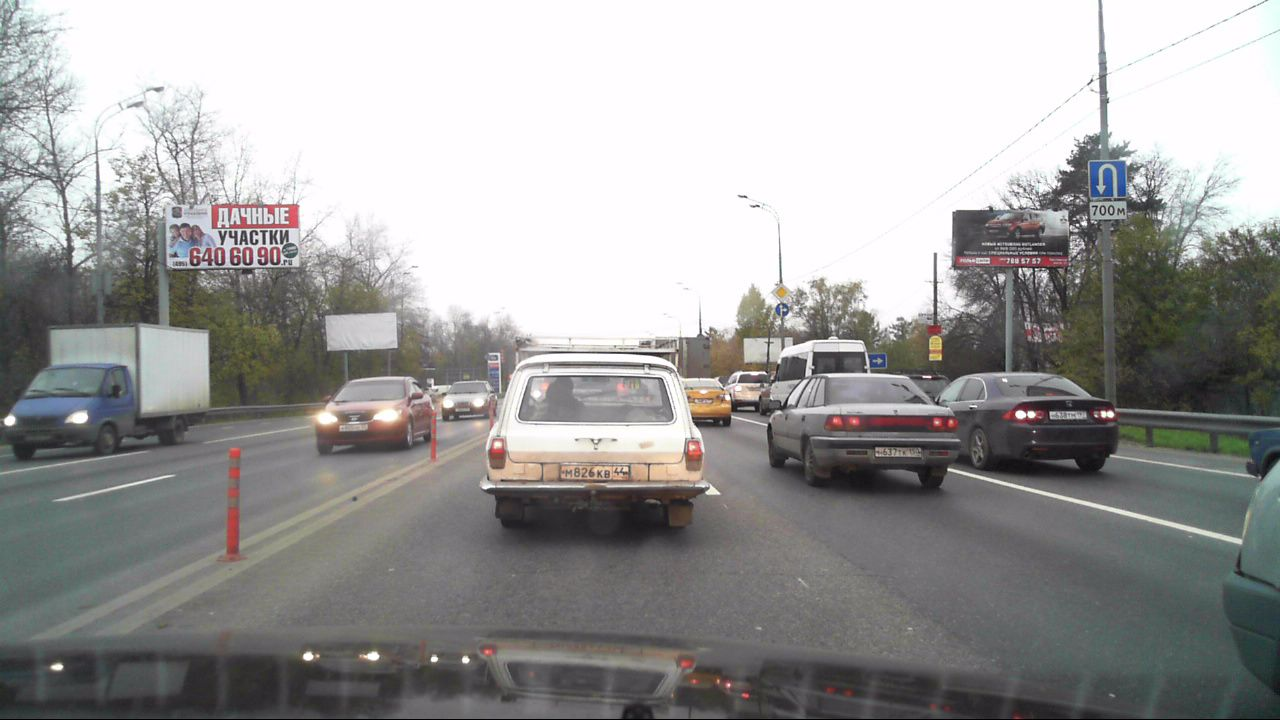U-turn: (1089, 161, 1126, 197)
